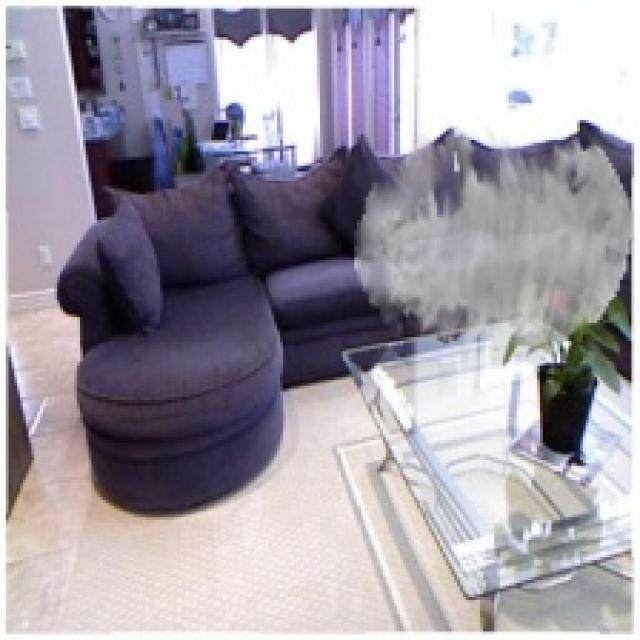smoke: (354, 125, 634, 368)
